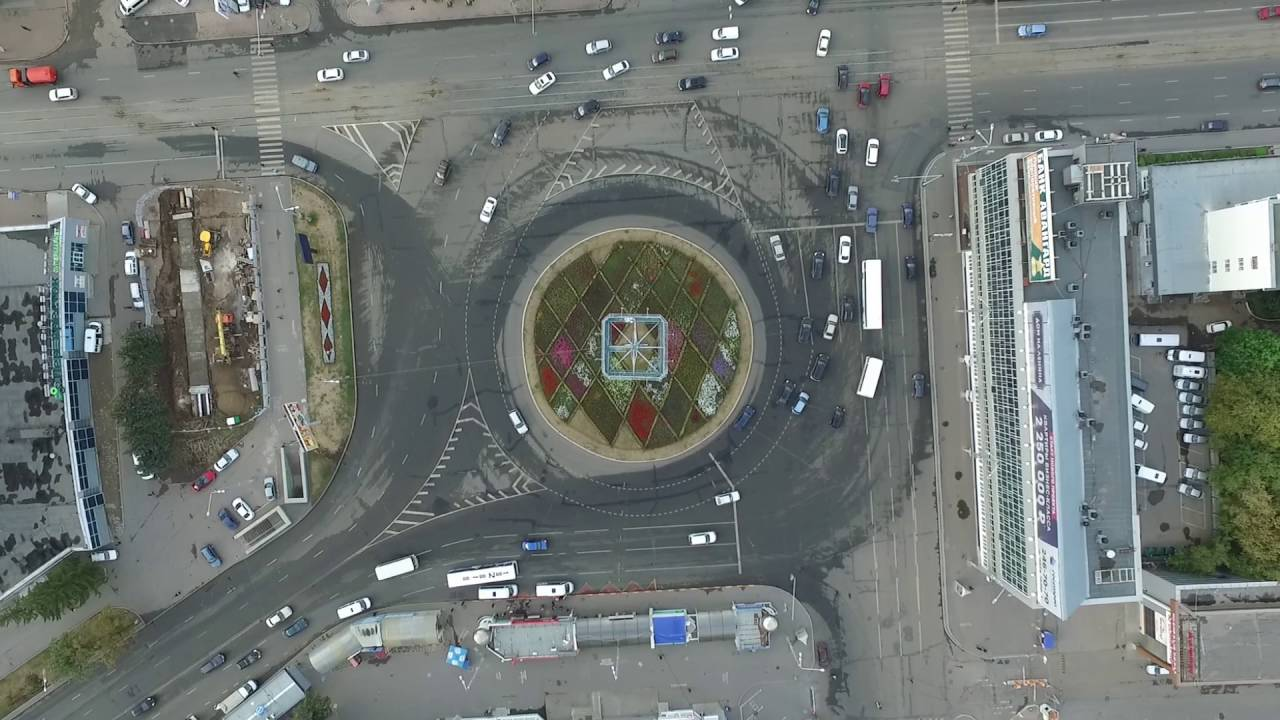car: (446, 560, 520, 590), (861, 259, 884, 331), (216, 678, 258, 715), (373, 553, 420, 581), (855, 354, 884, 399), (7, 65, 60, 89), (335, 596, 372, 620), (1131, 332, 1181, 348), (527, 71, 557, 97), (212, 447, 240, 473), (535, 579, 575, 597), (83, 319, 103, 355), (478, 583, 520, 600), (1135, 462, 1167, 484), (190, 469, 218, 494), (265, 605, 294, 629), (809, 352, 831, 383), (231, 497, 257, 523), (572, 98, 601, 121), (732, 404, 757, 430), (70, 182, 97, 206), (775, 378, 797, 407), (478, 195, 499, 225), (199, 543, 223, 569), (1130, 392, 1156, 416), (282, 615, 309, 638), (601, 59, 629, 81), (129, 695, 157, 717), (490, 119, 511, 148), (290, 153, 319, 174), (1166, 348, 1206, 363), (198, 652, 225, 674), (235, 649, 263, 670), (1172, 364, 1208, 380), (217, 507, 240, 532), (825, 166, 842, 199), (1177, 482, 1206, 501), (526, 51, 552, 72), (1016, 23, 1048, 40), (47, 86, 79, 103), (797, 315, 815, 345), (432, 159, 451, 187), (821, 313, 840, 341), (118, 1, 151, 17), (709, 46, 740, 63), (676, 75, 706, 92), (584, 38, 612, 56), (769, 234, 787, 262), (713, 489, 741, 507), (687, 530, 718, 546), (791, 391, 810, 417), (649, 48, 678, 65), (815, 28, 832, 57), (864, 137, 880, 167), (857, 80, 873, 110), (129, 280, 145, 310), (315, 67, 345, 82), (815, 106, 830, 136), (341, 49, 370, 64), (520, 537, 549, 552), (1179, 391, 1208, 406), (654, 31, 685, 45), (1033, 129, 1064, 143), (811, 250, 825, 281), (829, 405, 847, 429), (711, 25, 739, 40), (837, 234, 851, 264), (1001, 131, 1030, 145), (911, 371, 925, 400), (90, 549, 119, 563), (1206, 319, 1233, 334), (1174, 378, 1205, 391), (877, 72, 891, 100), (901, 201, 914, 231), (120, 219, 134, 246), (263, 475, 277, 502), (835, 128, 849, 155), (1183, 467, 1208, 482), (846, 184, 859, 212), (841, 295, 854, 323), (124, 250, 138, 276), (1181, 404, 1209, 417), (1178, 418, 1208, 430), (1258, 5, 1280, 21), (865, 207, 878, 234), (904, 255, 917, 282), (1200, 119, 1229, 131), (1257, 76, 1280, 91), (1131, 374, 1149, 392), (1183, 433, 1209, 444), (1145, 664, 1171, 675), (1133, 418, 1150, 434), (1134, 436, 1150, 451), (805, 1, 820, 16), (237, 1, 251, 13)
